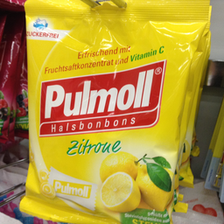candy: (28, 2, 204, 224)
